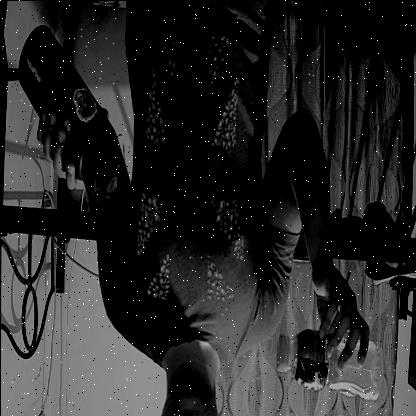Plastic Bottle: (258, 311, 396, 409)
